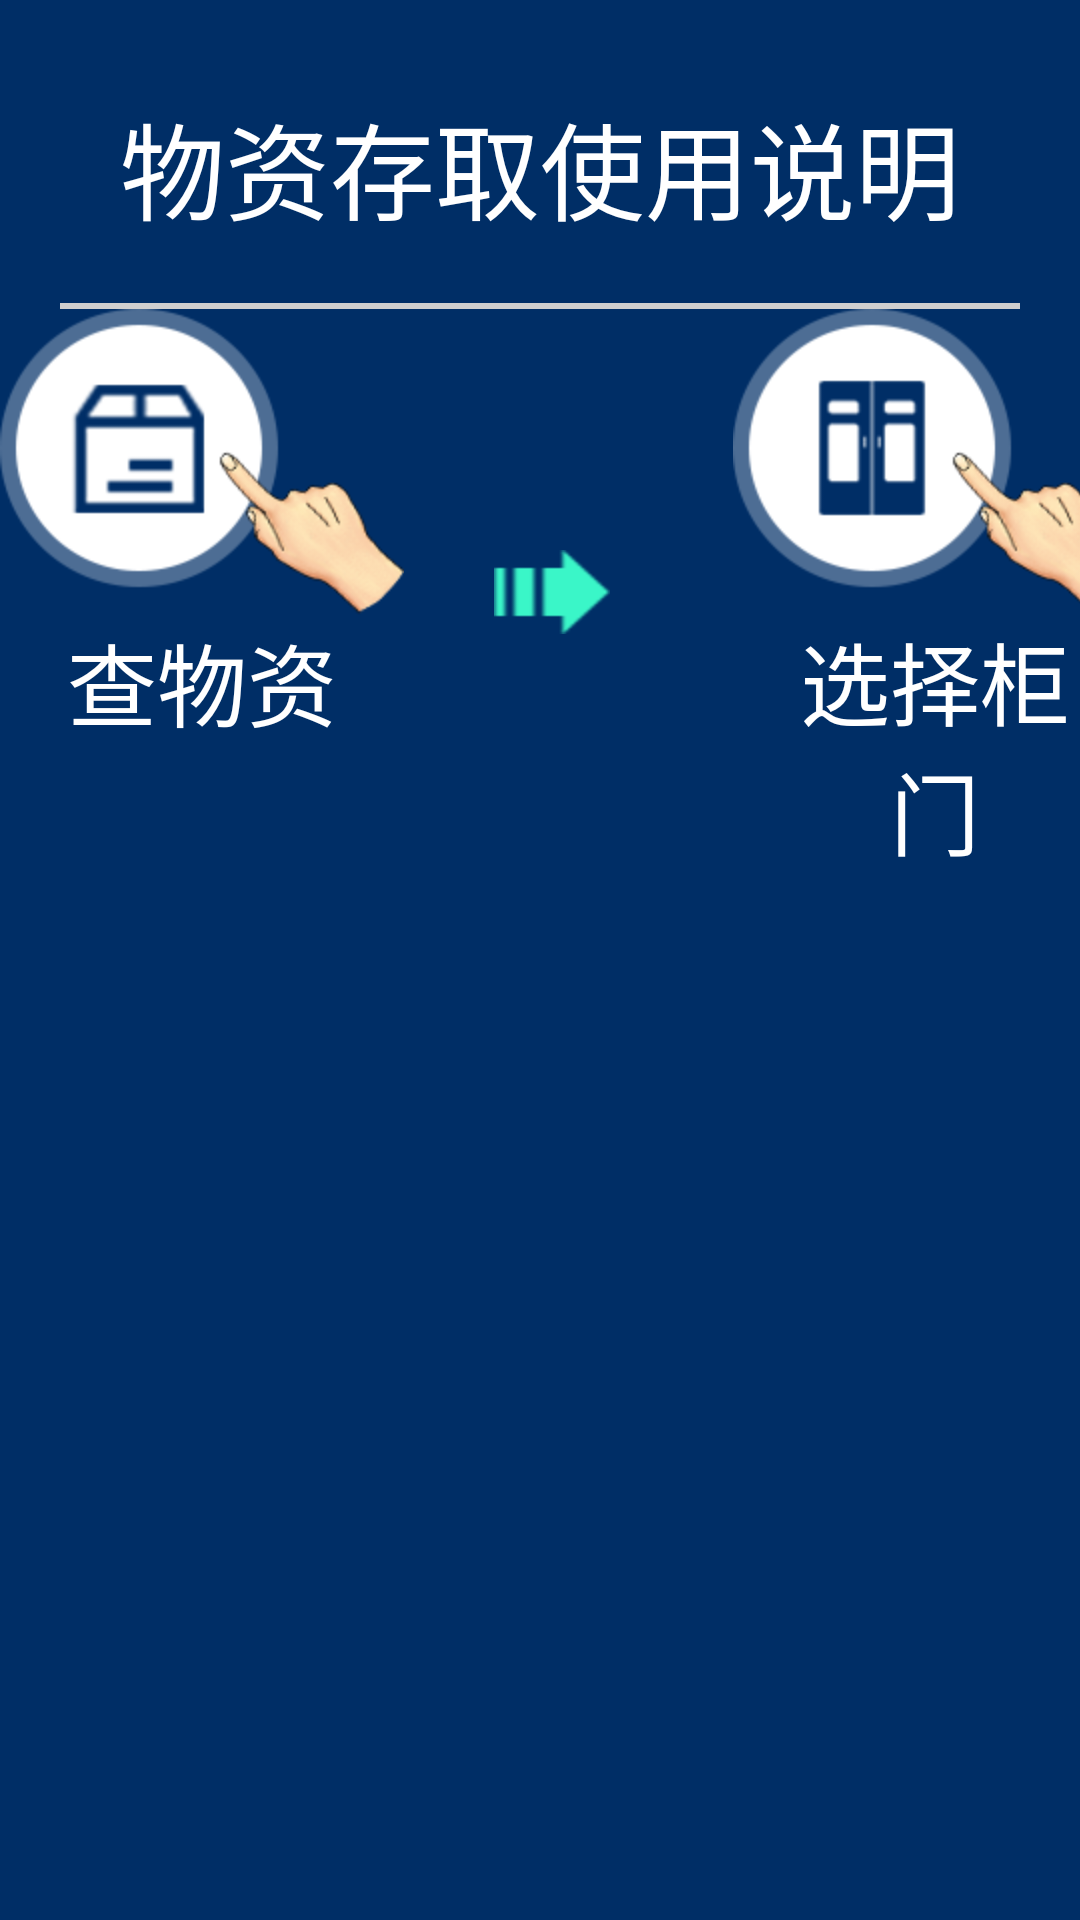

Locate icon controls on the screen. Image size 1080×1920, boxes as [x1=x1, y1=y1, x2=x2, y2=y2].
direction: [x1=494, y1=550, x2=610, y2=634]
